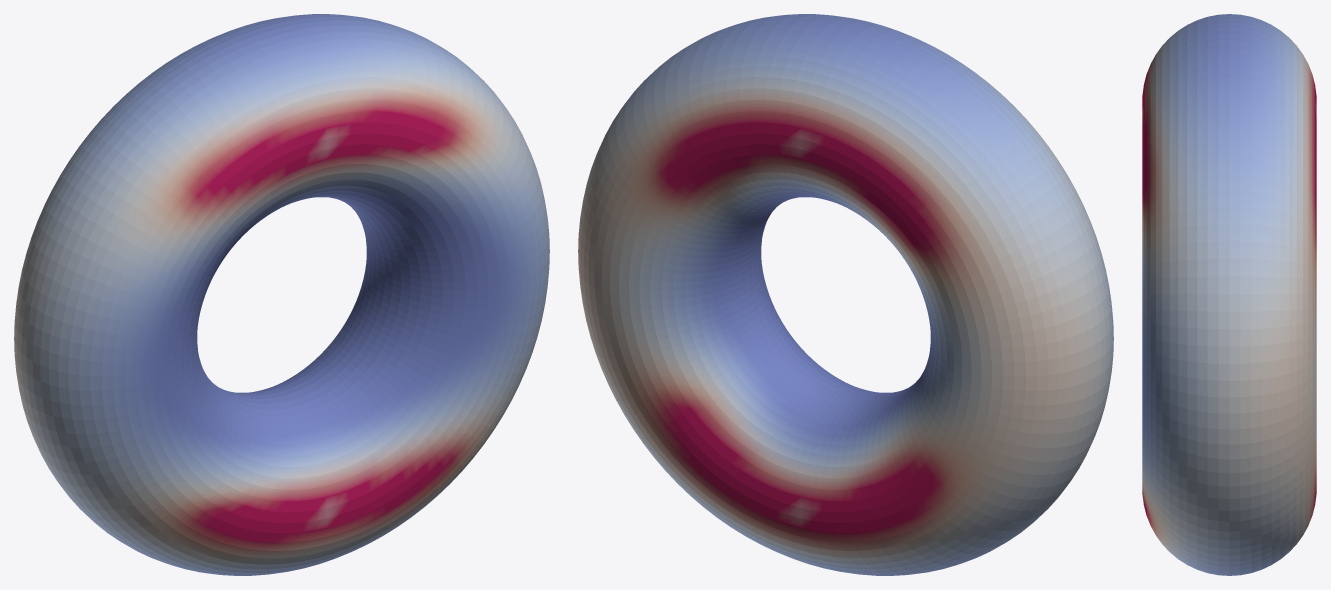
3 renders of one model, left to right at view 1: azimuth 30°, elevation 25°; view 2: azimuth 150°, elevation 25°; view 3: azimuth 270°, elevation 25°, orthographic. The views are drawn at different scales.
Parts seen in each view (by area): view 1: world; view 2: world; view 3: world.
Boxes of the visible parts, x1,y1,x2,y2 form: world: (14,14,549,575); world: (578,14,1113,575); world: (1142,14,1316,575).
Bounding box in the file's own units: 19.33 × 19.33 × 5.99.
